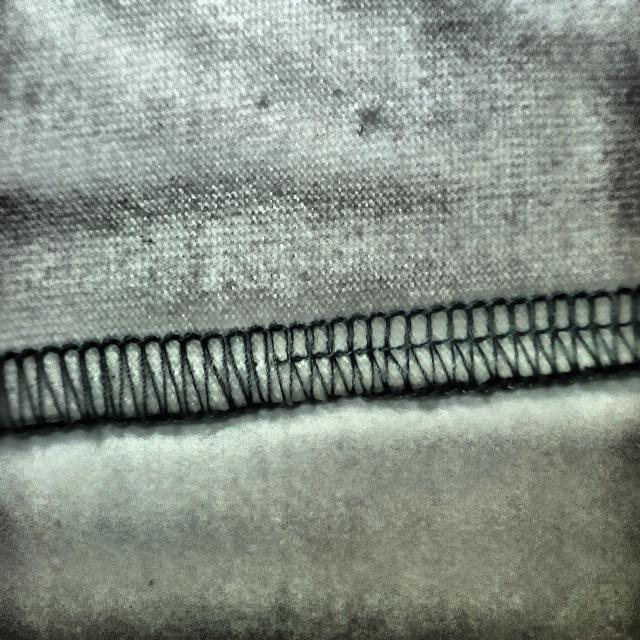Stitch: (83, 301, 471, 427)
